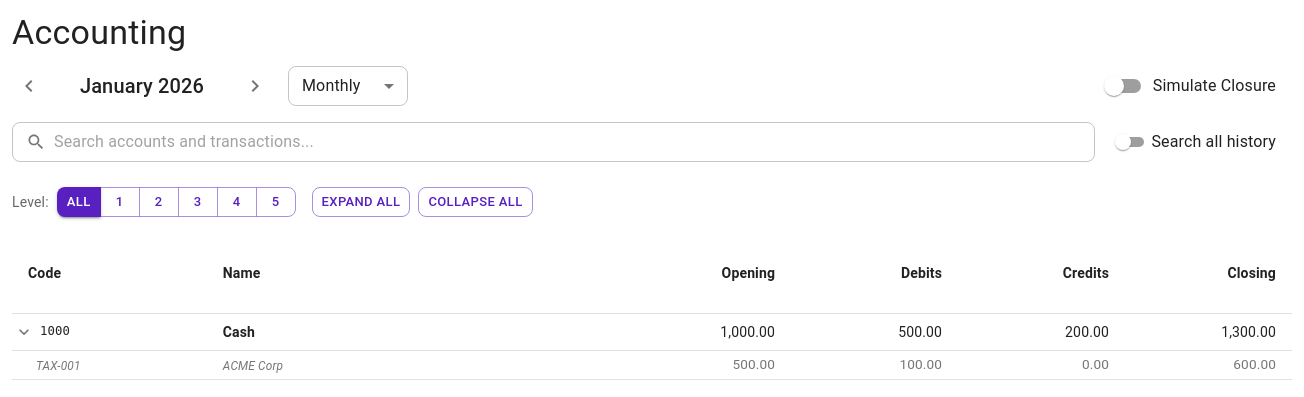
Scenario: AccountingPage › Escape keyboard shortcut returns to tree view from transaction view
Expected: the text "Cash" is shown, x1=207 y1=314 x2=624 y2=351
// Drill down
Double-click the row "1000 Cash 1,000.00 500.00 200.00 1,300.00" at (652, 332), box x1=12 y1=314 x2=1292 y2=351
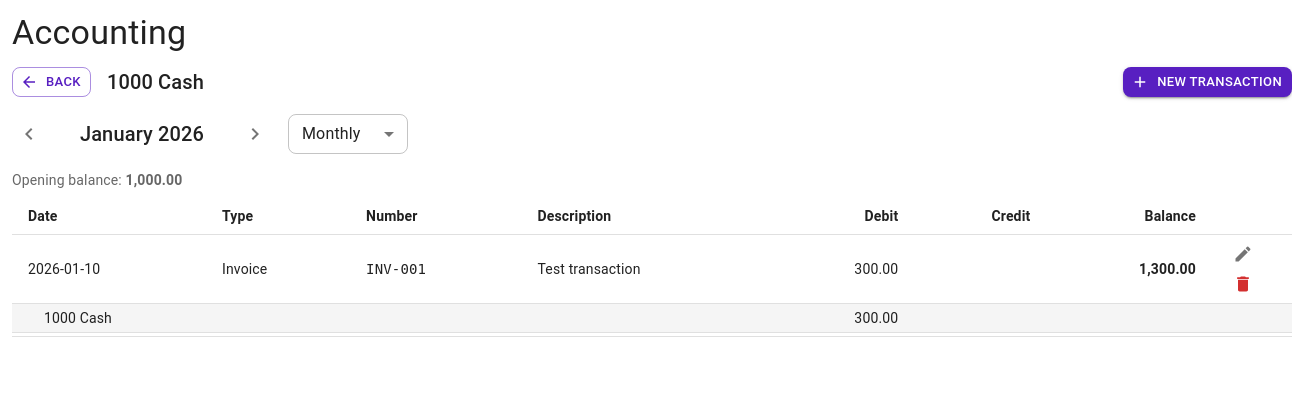
Result: the button "Back" is shown at x1=12 y1=66 x2=91 y2=97
Press Escape
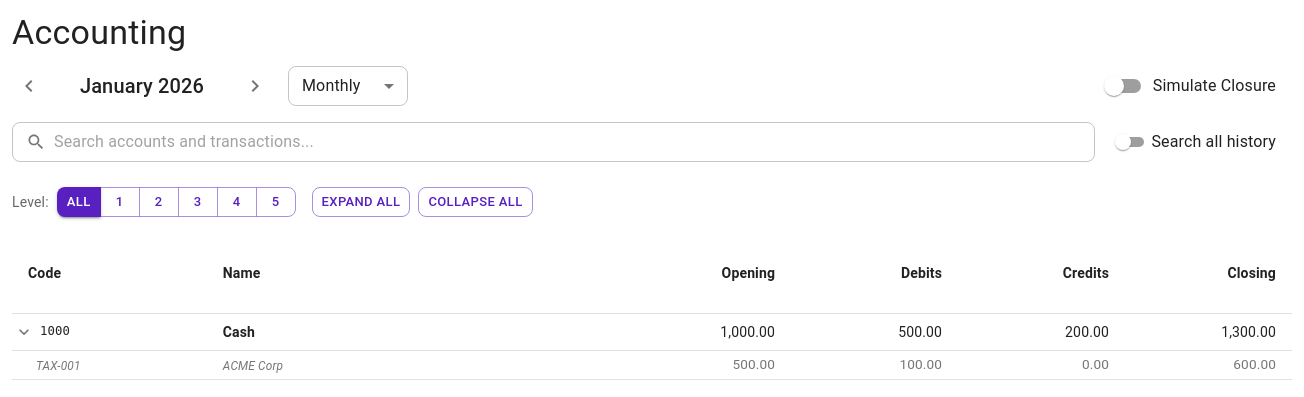
Result: the column heading "Code" is shown at x1=12 y1=234 x2=207 y2=314
